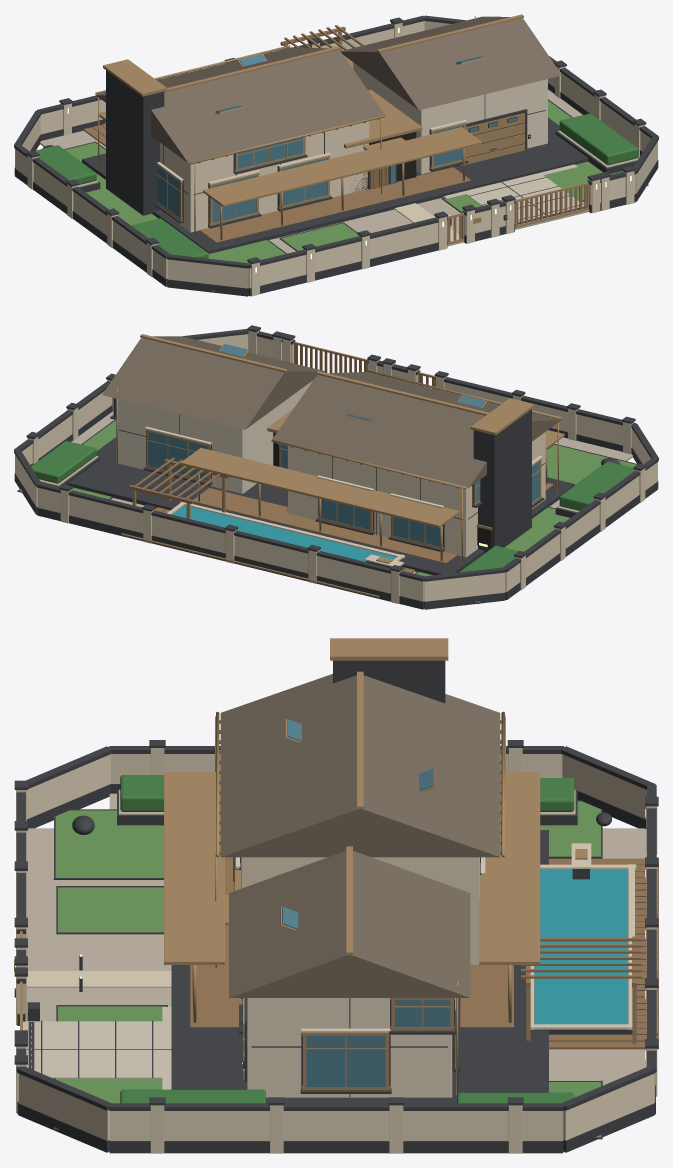
Rendered from cottage_palm.glb.
The picture shows the model from 3 angles, top to bottom: view 1: azimuth 30°, elevation 25°; view 2: azimuth 150°, elevation 25°; view 3: azimuth 270°, elevation 25°; orthographic projection. The views are drawn at different scales.
Parts seen in each view (by area): view 1: palm_west_roof, palm_east_roof, palm_plinth, palm_chimney_blade, palm_veranda_roof, palm_west_pavilion, palm_east_pavilion, palm_veranda_floor, cottage_wall_panel, cottage_wall_panel_side, cottage_planter_hedge.001, cottage_drive (+40 smaller); view 2: palm_west_roof, palm_east_roof, palm_west_pavilion, cottage_wall_panel.007, palm_plinth, palm_east_pavilion, palm_chimney_blade, palm_veranda_roof.001, palm_veranda_floor.001, cottage_wall_base.007, cottage_wall_panel_side, cottage_pool_water (+30 smaller); view 3: palm_west_roof, palm_east_roof, palm_plinth, palm_east_pavilion, cottage_pool_water, cottage_wall_panel_side.001, palm_veranda_roof, palm_veranda_roof.001, cottage_site_base_front, cottage_drive, cottage_site_lawn.002, cottage_wall_base_side.001 (+42 smaller).
Part boxes in pixels (x1,y1,x2,y2): palm_west_roof: (95, 47, 384, 163); palm_east_roof: (340, 16, 561, 110); palm_plinth: (82, 117, 588, 253); palm_chimney_blade: (106, 70, 164, 215); palm_veranda_roof: (203, 127, 481, 206); palm_west_pavilion: (160, 121, 369, 232); palm_east_pavilion: (353, 62, 547, 174); palm_veranda_floor: (199, 167, 471, 242); cottage_wall_panel: (248, 222, 438, 288); cottage_wall_panel_side: (15, 149, 167, 278); cottage_planter_hedge.001: (559, 113, 638, 165); cottage_drive: (466, 175, 589, 228); palm_west_roof: (272, 372, 560, 487); palm_east_roof: (102, 336, 324, 429); palm_west_pavilion: (287, 432, 545, 557); cottage_wall_panel.007: (37, 488, 424, 601); palm_plinth: (68, 437, 574, 575); palm_east_pavilion: (116, 382, 310, 493); palm_chimney_blade: (473, 409, 531, 552); palm_veranda_roof.001: (180, 448, 459, 527); palm_veranda_floor.001: (193, 488, 457, 563); cottage_wall_base.007: (37, 507, 424, 609); cottage_wall_panel_side: (505, 462, 657, 591); cottage_pool_water: (172, 505, 396, 561); palm_west_roof: (220, 674, 500, 857); palm_east_roof: (229, 850, 470, 997); palm_plinth: (171, 830, 548, 1103); palm_east_pavilion: (247, 998, 452, 1097); cottage_pool_water: (534, 869, 627, 1024); cottage_wall_panel_side.001: (109, 1111, 563, 1140); palm_veranda_roof: (164, 772, 224, 964); palm_veranda_roof.001: (479, 772, 540, 964); cottage_site_base_front: (26, 828, 110, 1021); cottage_drive: (23, 1021, 171, 1078); cottage_site_lawn.002: (55, 810, 163, 877); cottage_wall_base_side.001: (109, 1141, 563, 1153).
Bounding box in the file's own units: 35.96 × 8.81 × 27.01.
